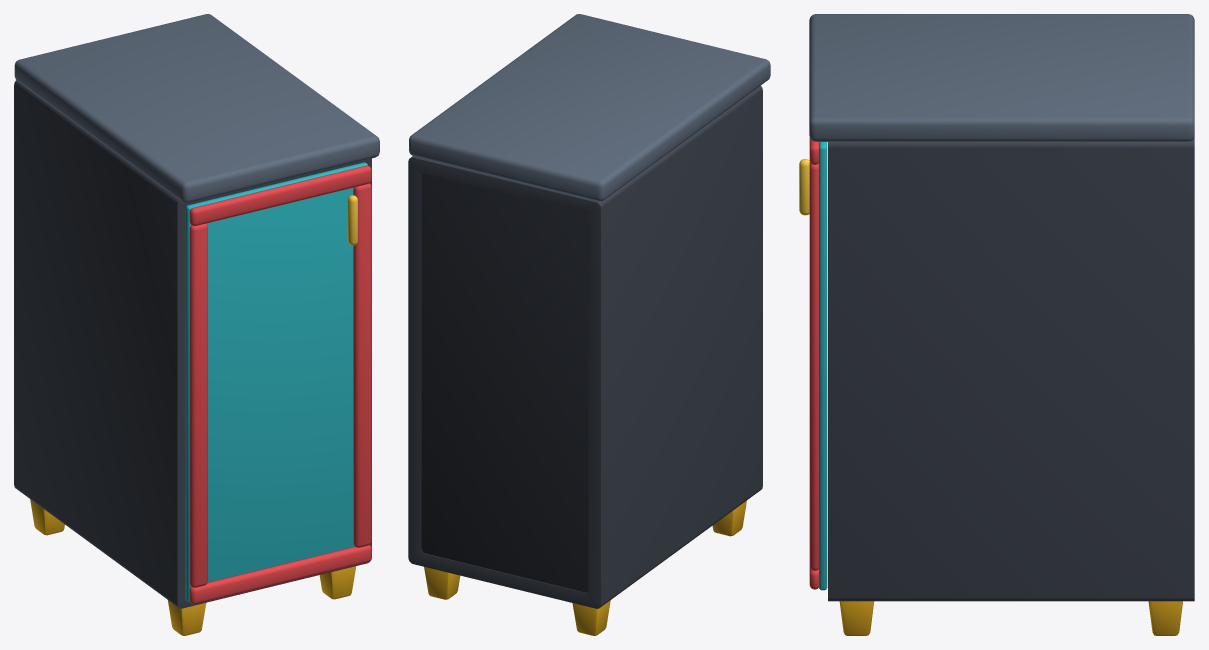
Rendered from armario_cozinha_base_1porta_grafite.glb.
The picture shows the model from 3 angles, left to right: view 1: azimuth 30°, elevation 25°; view 2: azimuth 150°, elevation 25°; view 3: azimuth 270°, elevation 25°; orthographic projection. The views are drawn at different scales.
Visible parts, largest first — view 1: armario_cozinha_base_1porta_grafite, porta_1; view 2: armario_cozinha_base_1porta_grafite; view 3: armario_cozinha_base_1porta_grafite, porta_1.
Boxes of the visible parts, x1,y1,x2,y2 form: armario_cozinha_base_1porta_grafite: [14, 14, 379, 635]; porta_1: [185, 162, 371, 604]; armario_cozinha_base_1porta_grafite: [408, 14, 770, 635]; armario_cozinha_base_1porta_grafite: [809, 14, 1194, 635]; porta_1: [799, 137, 827, 590].
Bounding box in the file's own units: 0.398 × 0.9 × 0.6147.
1 material, 1 textured.
